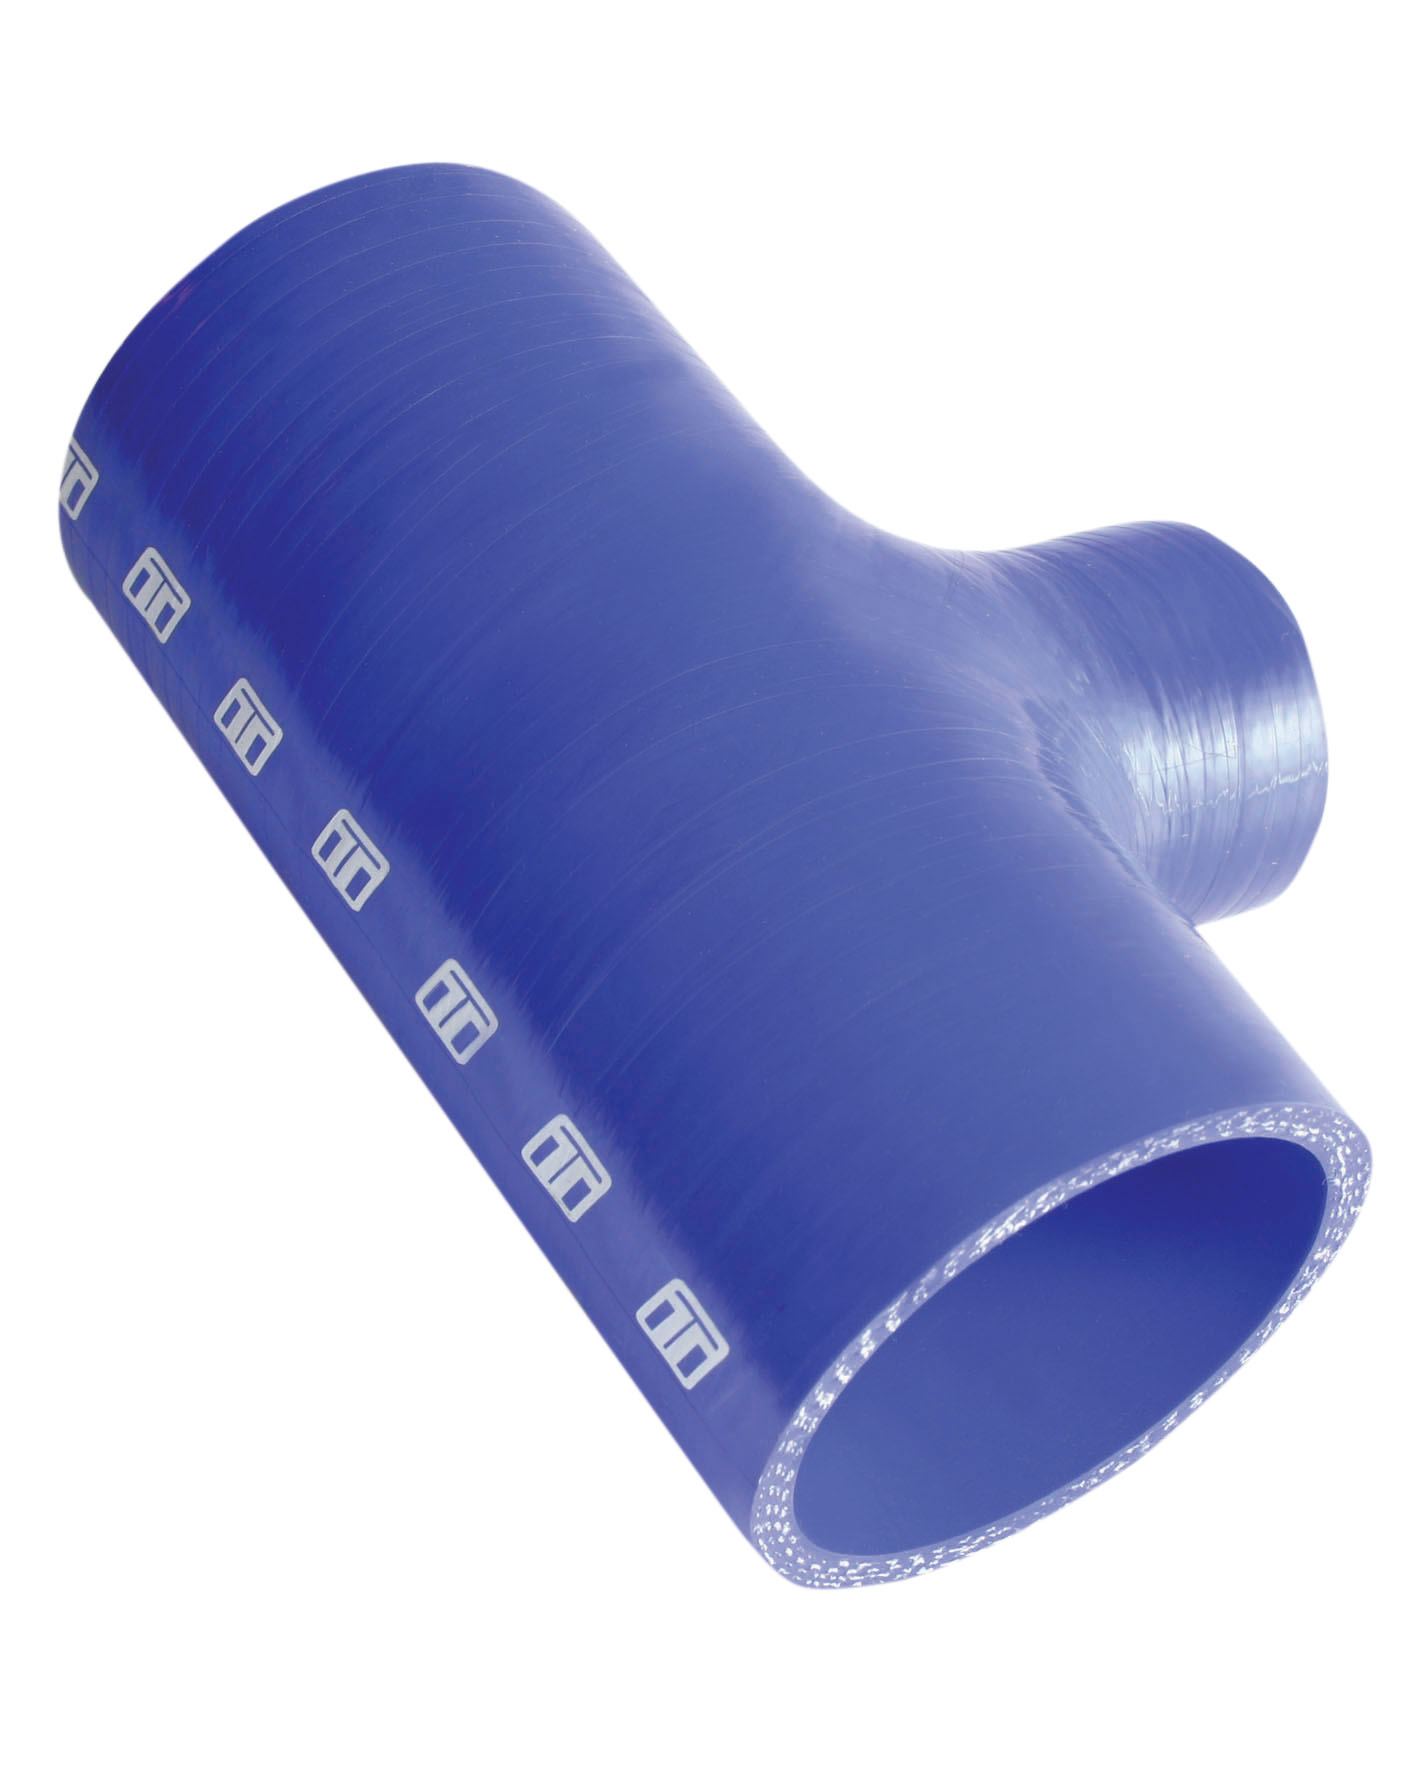Nonrec_Tangler: (16, 118, 1364, 1582)
